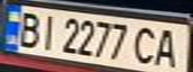2: (57, 15, 81, 55), (75, 16, 96, 57)
7: (109, 20, 133, 61), (93, 18, 115, 58)
A: (151, 25, 187, 70)
B: (12, 8, 45, 48)
C: (130, 24, 163, 65)
I: (33, 11, 60, 51)
